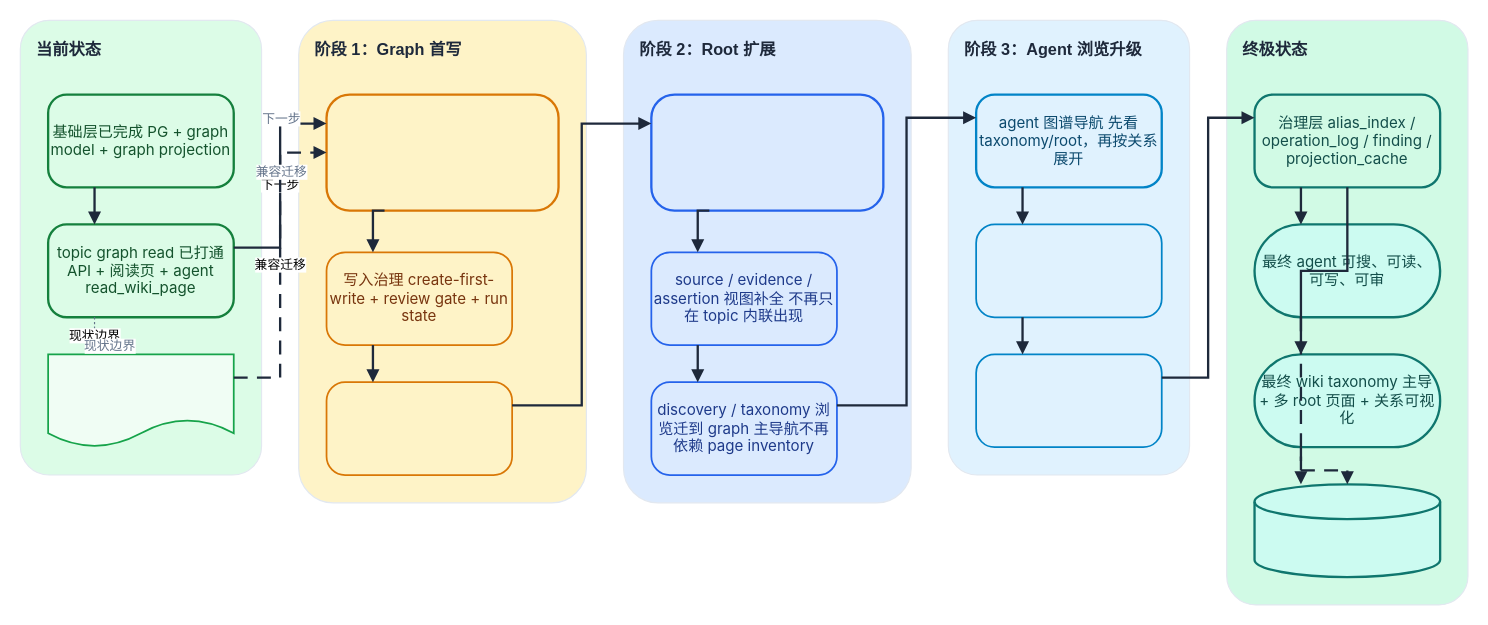
The diagram is 1488 pixels wide and 625 high, and some of its shapes have lost their labels. The shapes that lost their labels are listed below. From the top down, each one's centre as x and y in pixels, then its label:
[442,152]: topic 首写切片 contract + PG save + governed flow + runtime tool
[767,152]: graph root 扩展 entity / section / source / taxonomy
[1068,270]: graph-aware query / ranking 从 page-centric 搜索升级为关系驱动检索
[140,400]: 兼容层仍存在 entity/source/query 仍以 markdown page 为主
[1068,400]: 自动 prompt 上下文注入 按 root / 任务把结构摘要塞给 agent
[418,428]: 写后立读 无需补 markdown，即可被 topic graph read 读到
[1347,530]: 最终事实源 Graph DB 为主，markdown 成为 projection / 兼容层
